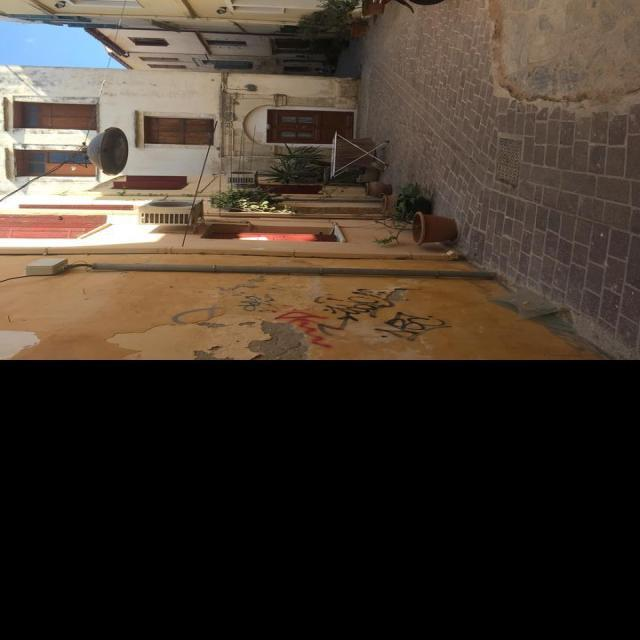nonspitting: (275, 288, 453, 348)
